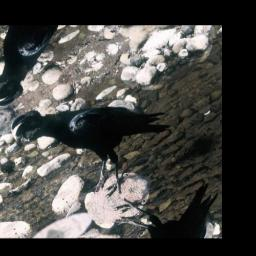Crow: (3, 49, 190, 225)
